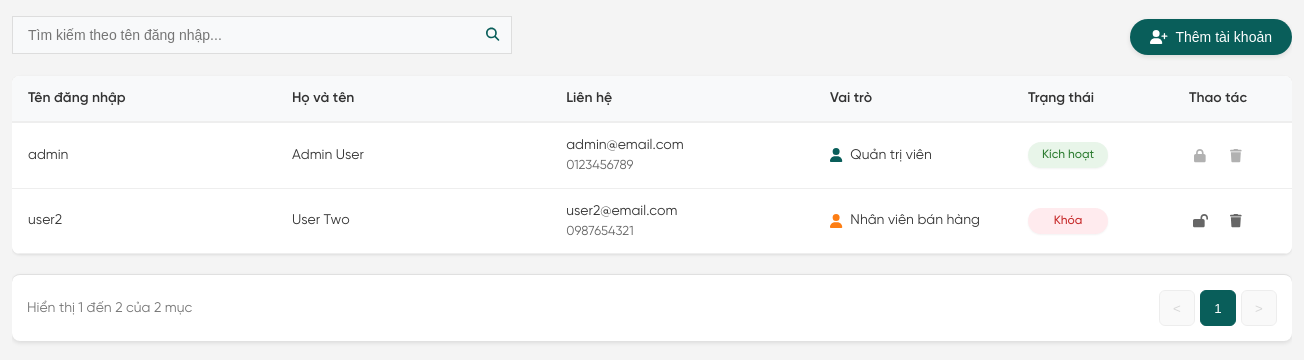
AccountTable › filters accounts by username
Expected: the text "admin" is shown, [12,123,276,188]
Type "user2" into the field with placeholder "Tìm kiếm theo tên đăng nhập...".
click(262, 35); type("user2")  # box [12,16,512,54]
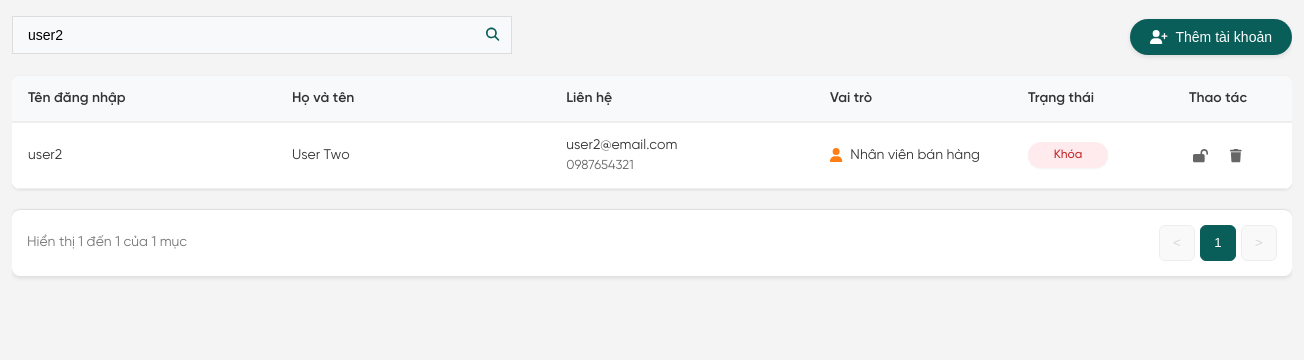
Expected: the text "user2" is shown, [12,123,276,188]
Expected: the text "admin" is gone
